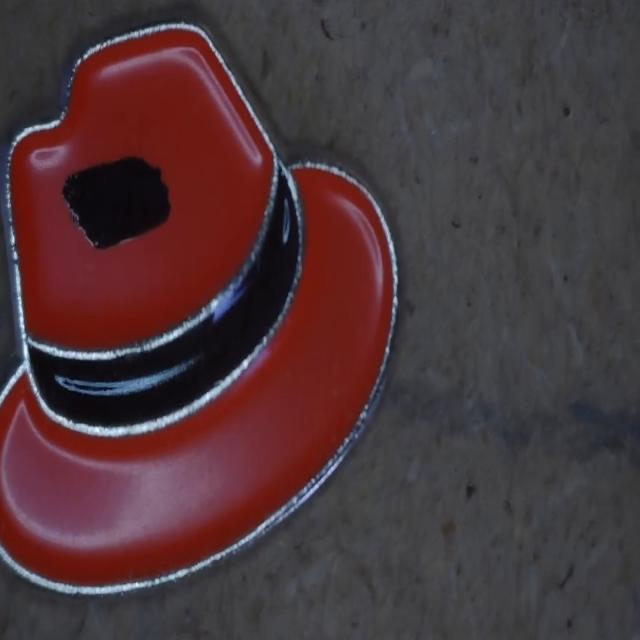Hatband: (28, 164, 302, 431)
Paint_Leak: (64, 158, 170, 249)
RedHatPin: (0, 24, 398, 593)
